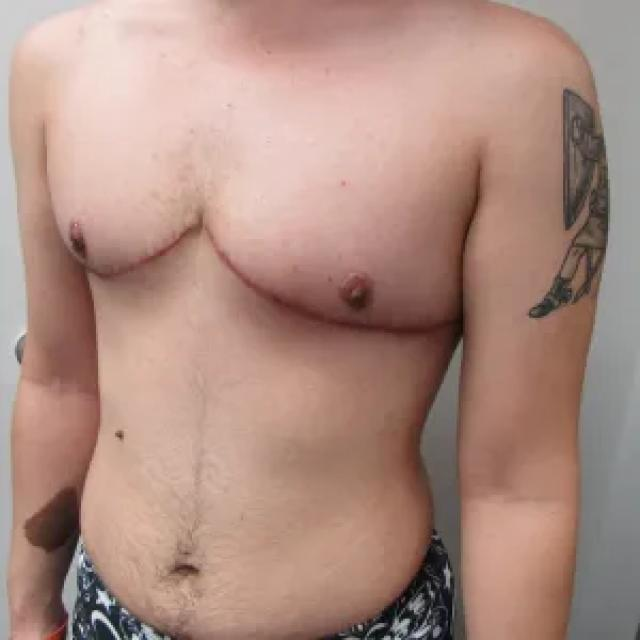Seno herido: (204, 54, 474, 366), (45, 55, 201, 300)
